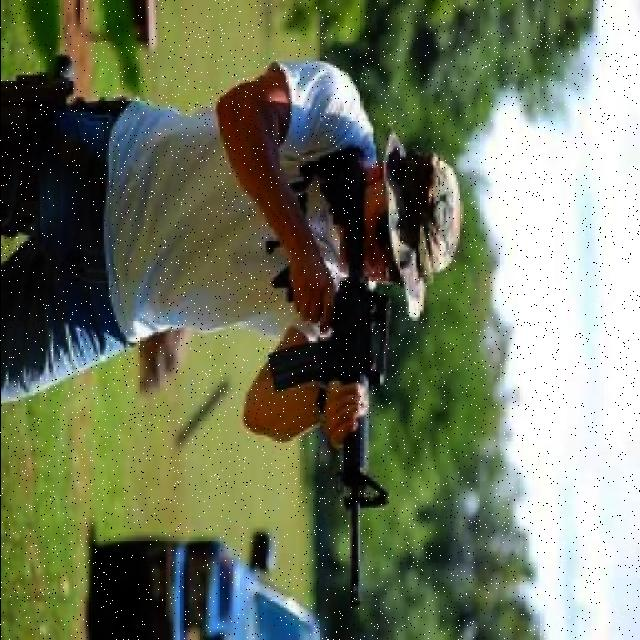Rifle: (265, 144, 392, 610)
